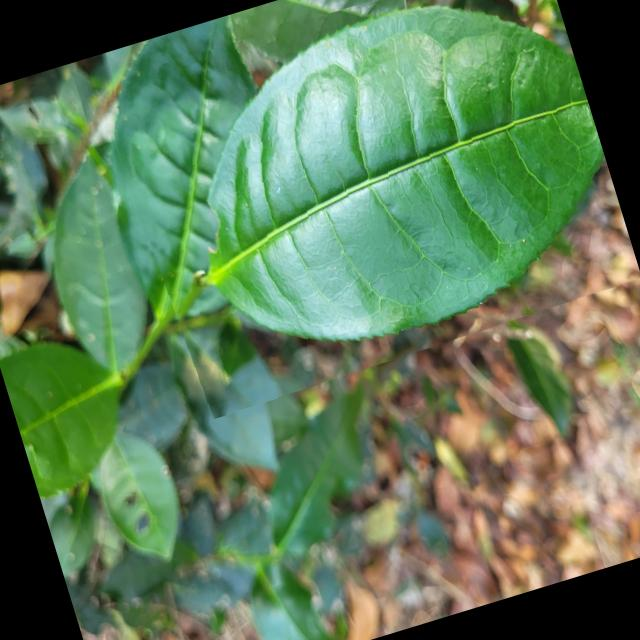Category D(7+ days, Not for Tea): (92, 0, 640, 423)
